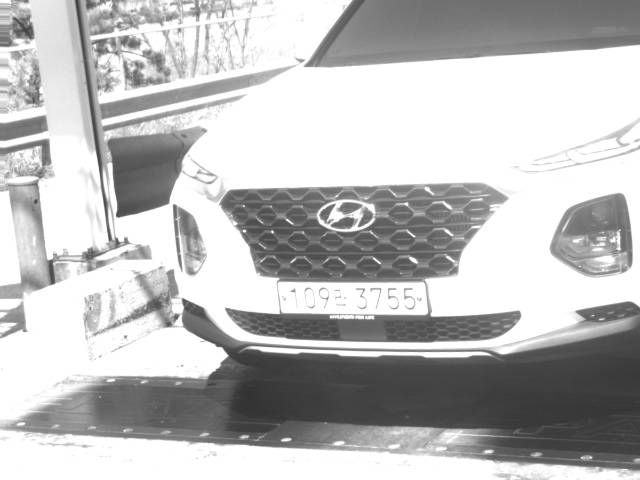car: (166, 1, 639, 375)
plate: (274, 278, 431, 316)
